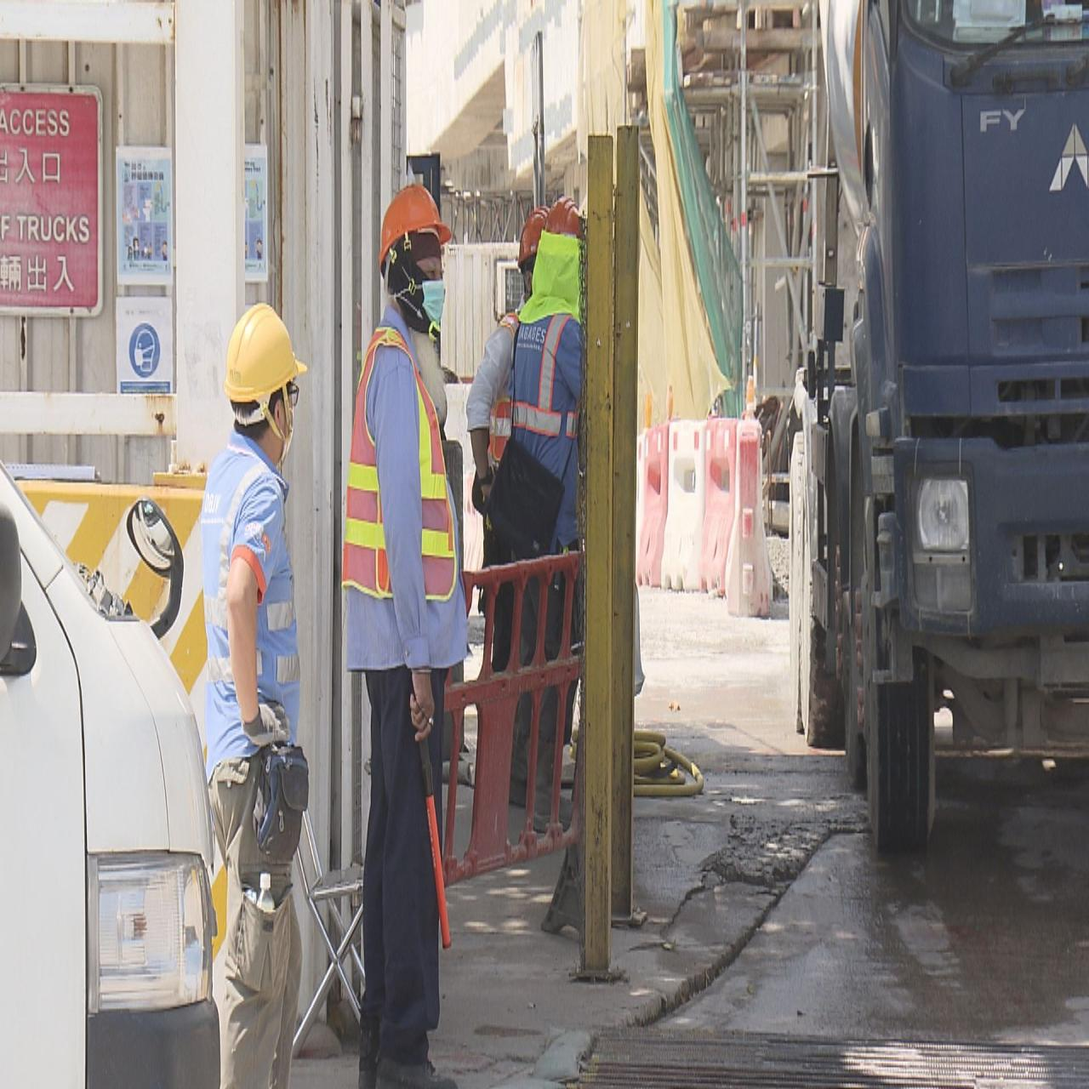NO_Safety_Vest: (198, 443, 298, 774), (514, 298, 586, 480)
Person: (327, 178, 469, 1082), (189, 291, 316, 1075), (493, 182, 581, 786), (470, 210, 535, 482)
Safety_Vest: (341, 322, 466, 627), (489, 312, 521, 460)
